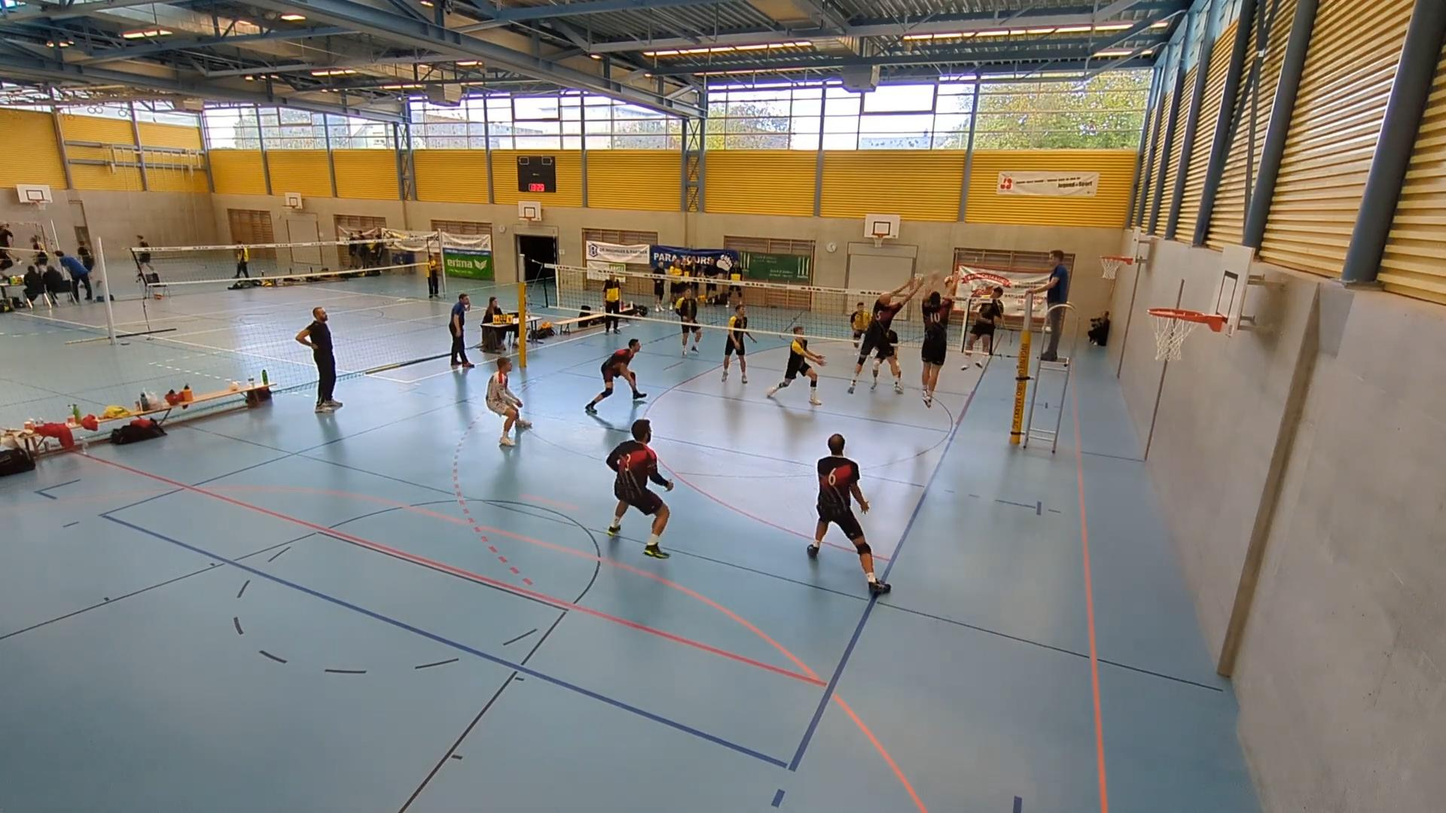Attack: (954, 276, 1006, 380)
Block: (854, 276, 925, 397), (918, 274, 959, 407)
Player: (807, 434, 890, 593), (606, 419, 673, 558), (766, 325, 825, 405), (585, 339, 645, 413), (485, 356, 531, 446), (721, 303, 755, 383), (871, 329, 901, 393), (674, 286, 701, 357), (850, 301, 871, 347)
ball: (939, 271, 955, 288)
